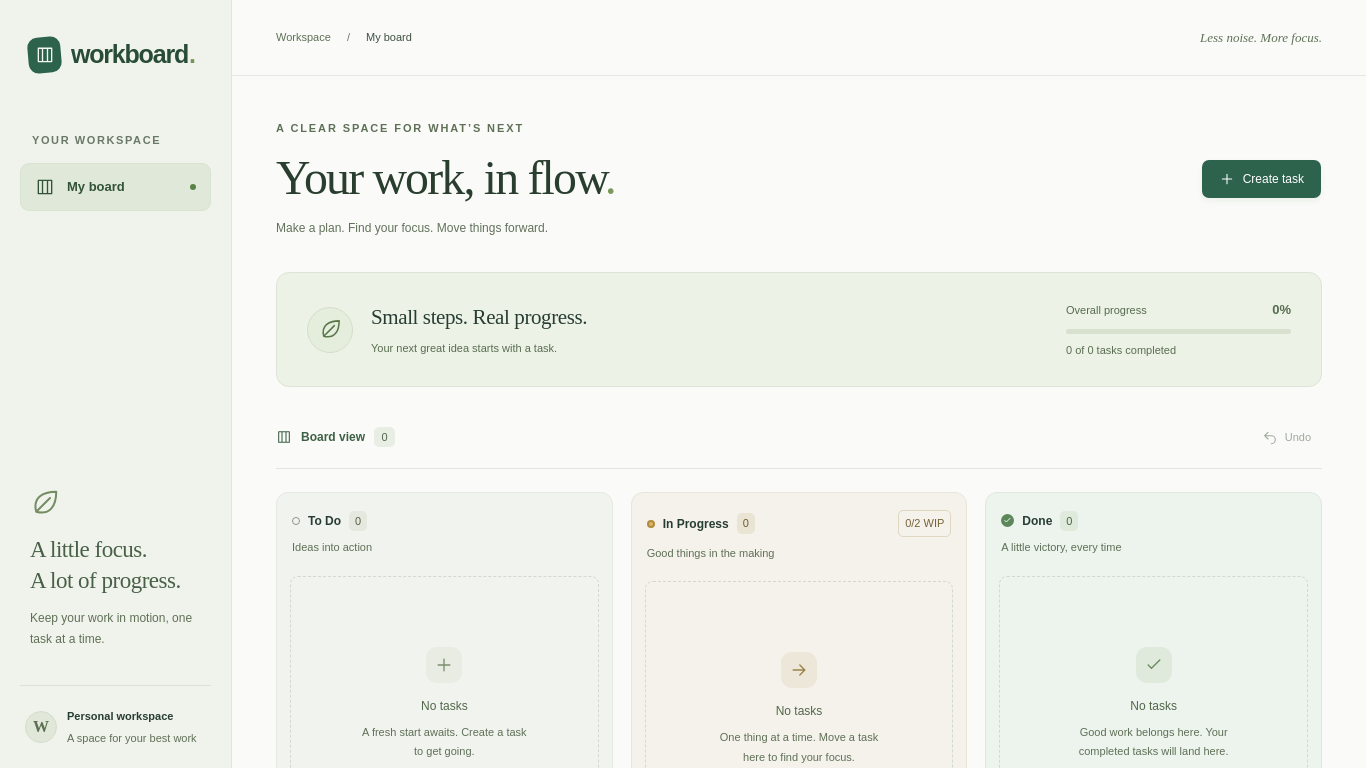
CreateTaskDialog › asks for a title and shows an inline error when it is empty
Expected: the heading "To Do" is shown, [308,512,341,530]
Click the button "Create task": (1261, 179) [1201,159,1322,199]
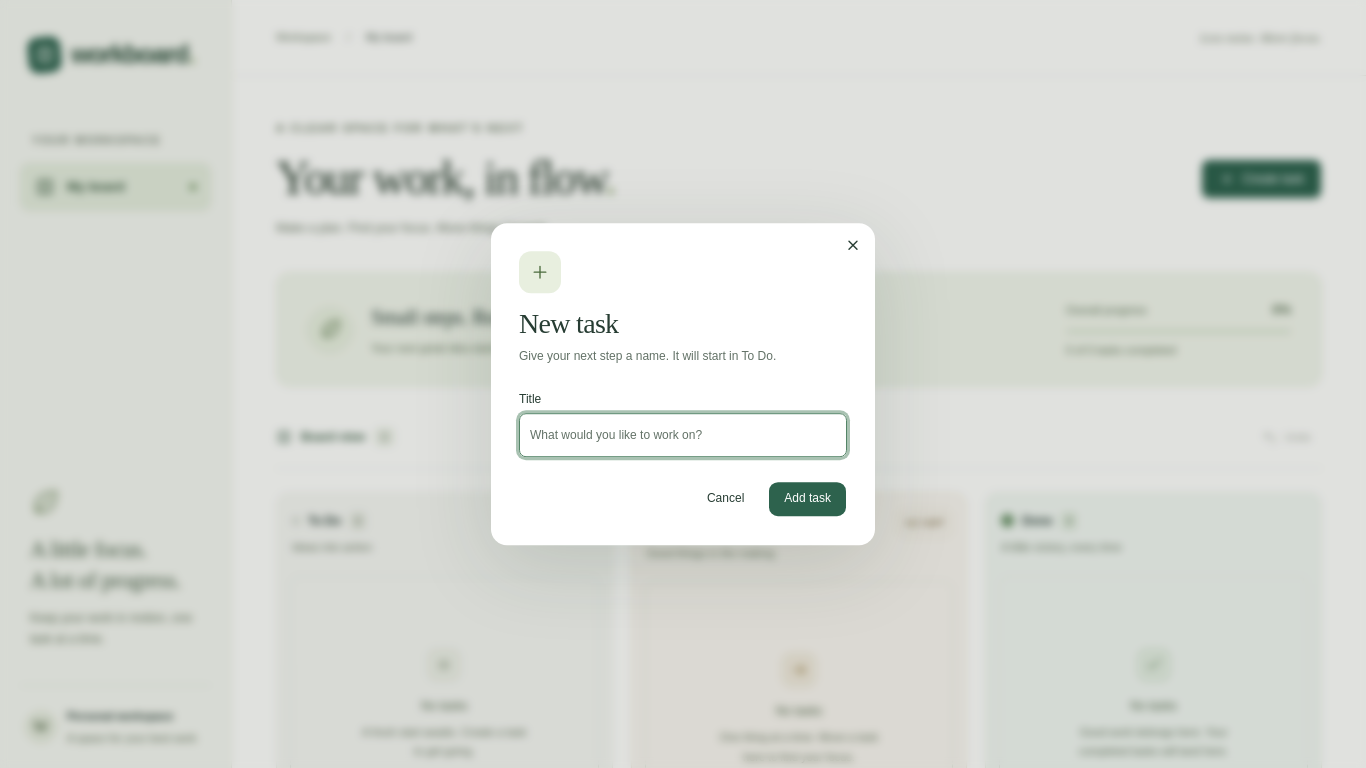
Result: the field labelled "Title" is shown at [519,413,847,457]
Click the button "Add task": (808, 499) [768,481,847,517]
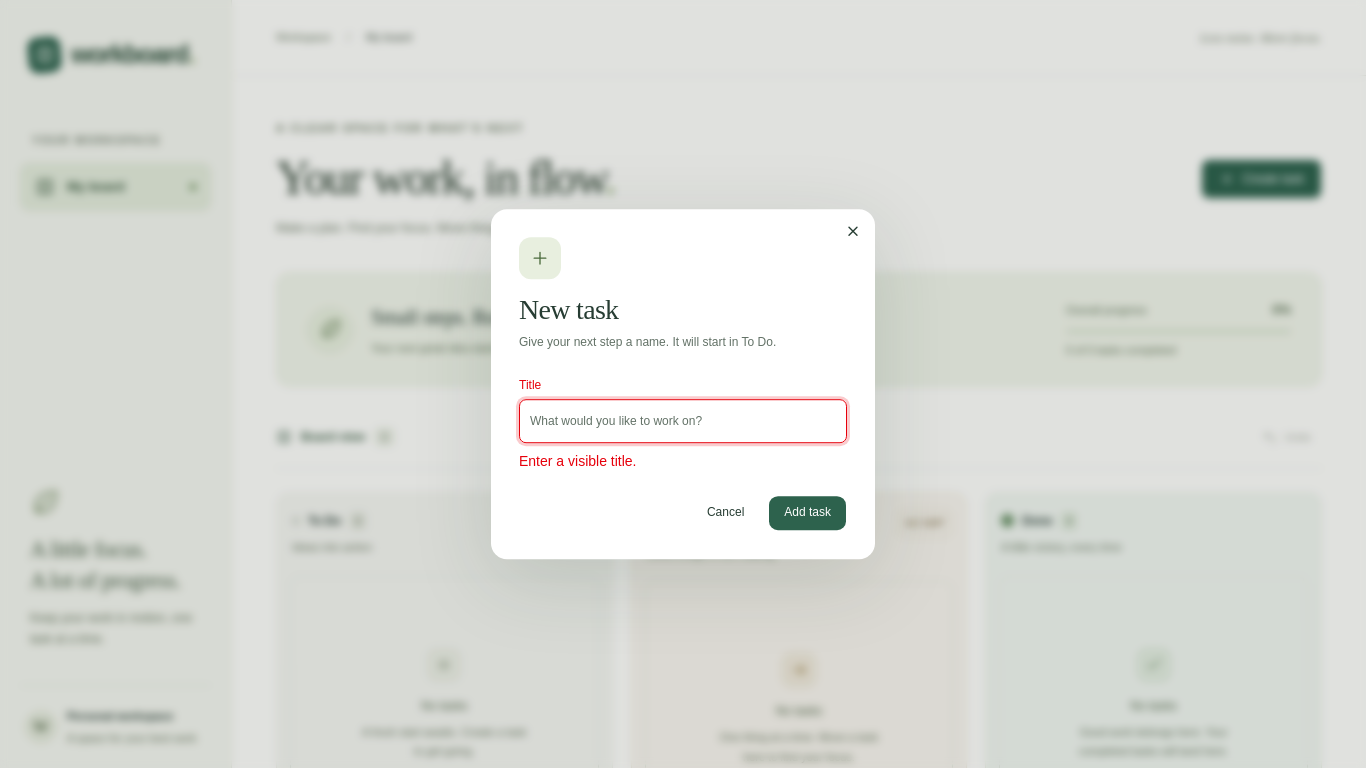
Result: the text "Enter a visible title." is shown at [519,453,636,469]
